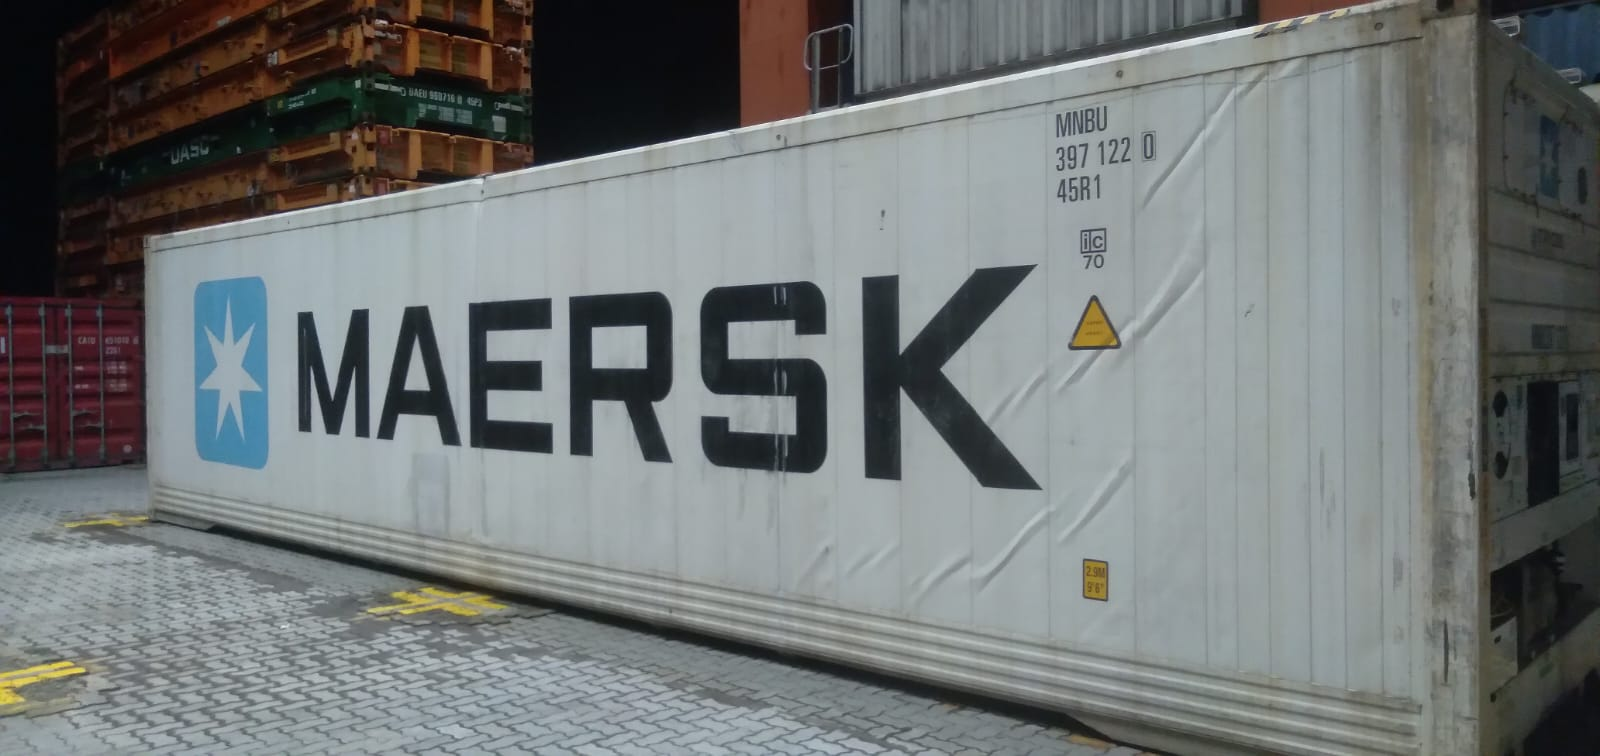bulged: (816, 444, 1182, 608), (1077, 75, 1267, 364)
